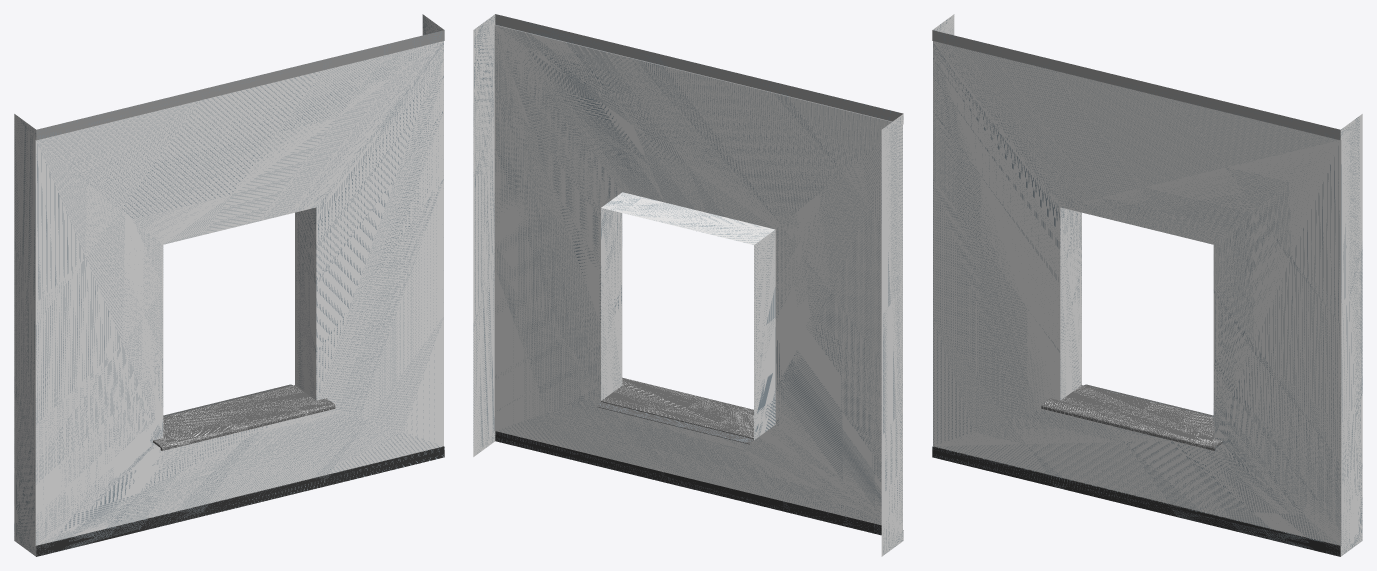
The model's file is WindowBlock_os_plinth_[400x400]_150x181x[080].dae.
The picture shows the model from 3 angles, left to right: view 1: azimuth 30°, elevation 25°; view 2: azimuth 150°, elevation 25°; view 3: azimuth 330°, elevation 25°; orthographic projection.
Parts seen in each view (by area): view 1: group_1 (×4), group_2; view 2: group_1 (×4), group_2 (×2); view 3: group_1 (×4), group_2.
Boxes of the visible parts, x1,y1,x2,y2 form: group_1 (×4): [14, 14, 444, 556]; group_2: [153, 385, 335, 450]; group_1 (×4): [473, 14, 903, 556]; group_2 (×2): [597, 377, 753, 444]; group_1 (×4): [932, 14, 1362, 556]; group_2: [1041, 385, 1223, 450].
Size of the model in its own units: 157 by 23.03 by 157.
